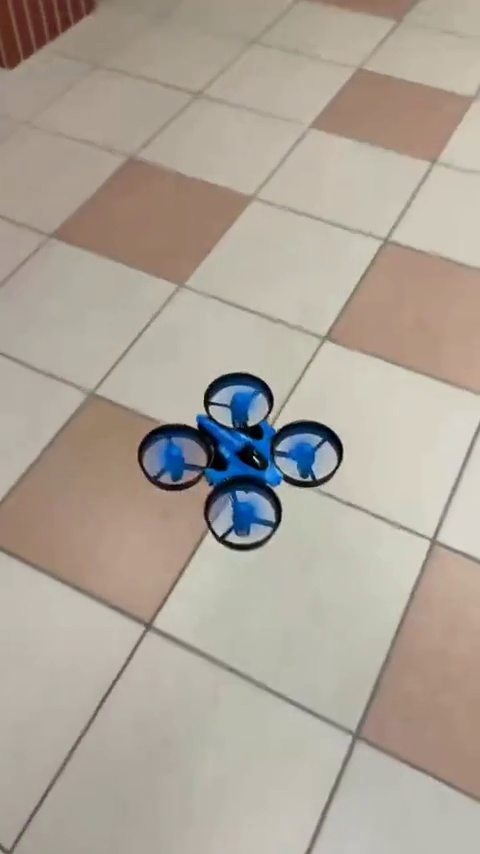drone: (138, 373, 343, 548)
